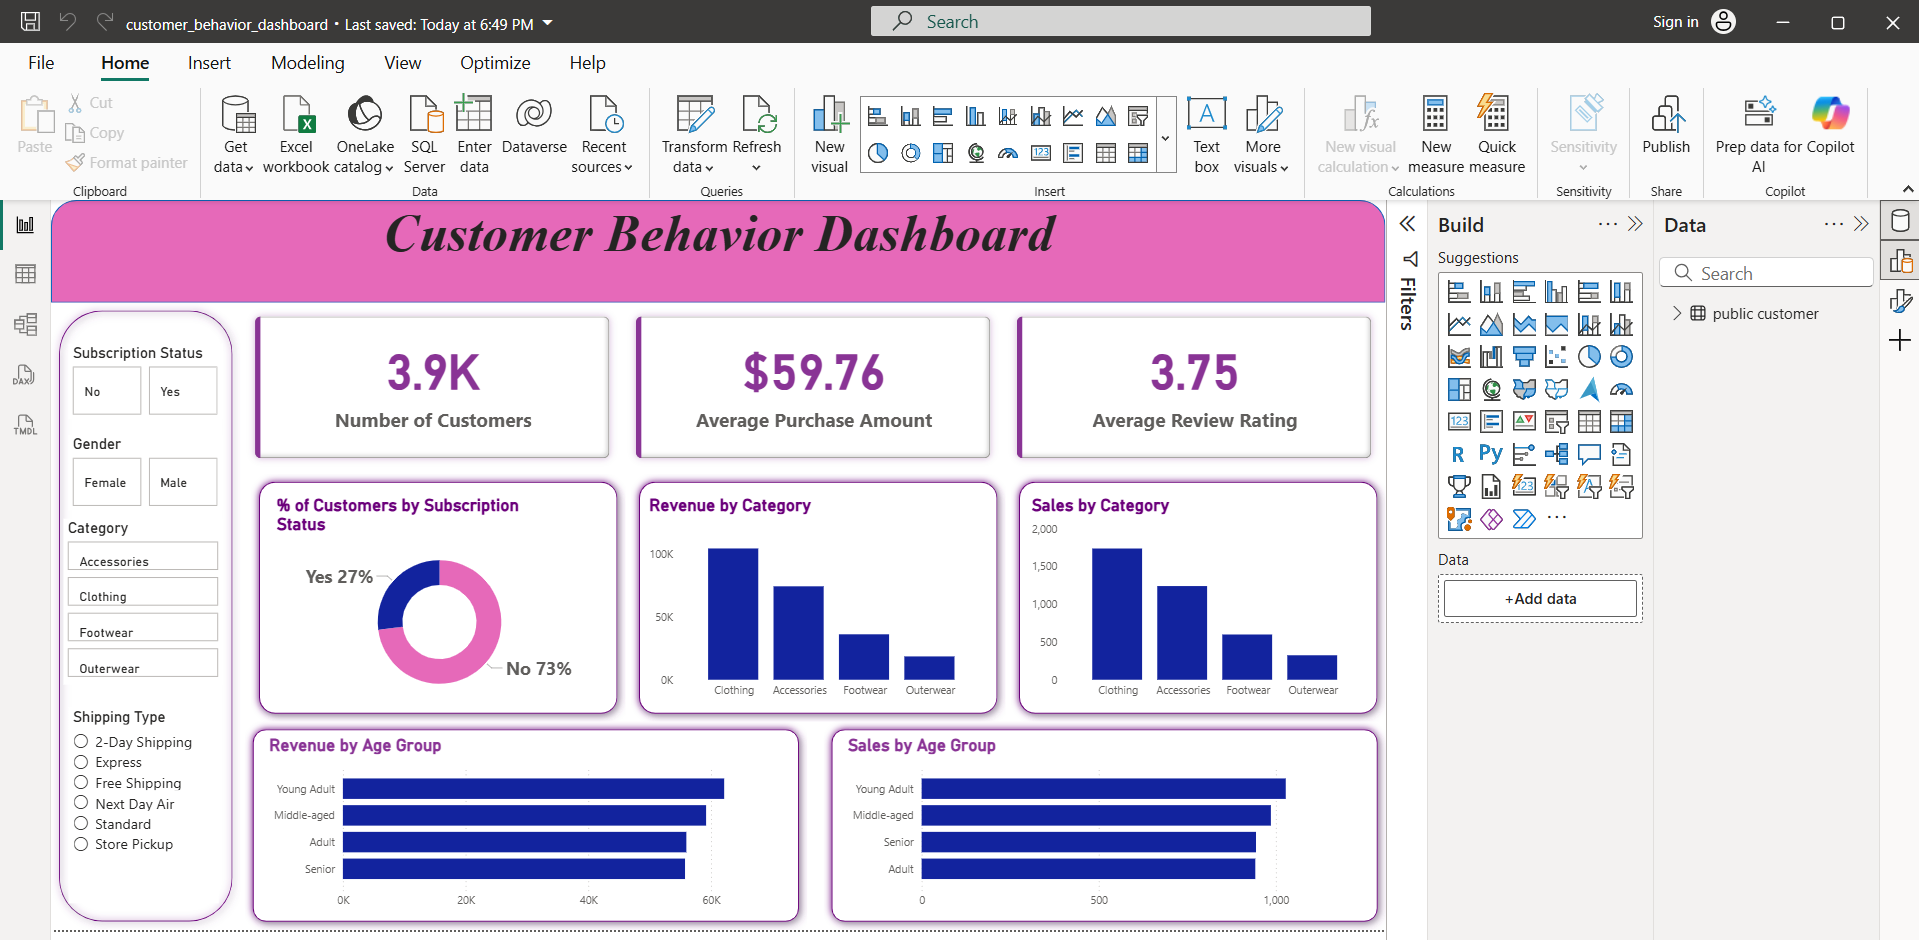

The dashboard page shown, as its layout file describes it:
{"tool":"powerbi","page":{"name":"Page 1","canvas":[1500,820],"ordinal":0},"visuals":[{"type":"cardVisual","fields":{"Data":["public customer.Number of Customers","public customer.Average Purchase Amount","public customer.Average Review Rating"]},"box":[212.9,115.3,1286.5,191.6],"z":2000},{"type":"shape","box":[218.3,585.6,631.7,234.2],"z":2500,"group":"g1"},{"type":"shape","box":[0,0,1499.4,115.3],"z":3000},{"type":"textbox","box":[0,0,1499.9,115.6],"z":4000},{"type":"shape","box":[225.4,307,420.5,278.6],"z":5000},{"type":"donutChart","title":"% of Customers by Subscription Status","fields":{"Category":["public customer.subscription_status"],"Y":["CountNonNull(public customer.customer_id)"]},"box":[248.4,331.8,376.2,237.8],"z":6000},{"type":"shape","box":[1078.9,307,420.5,278.6],"z":7000},{"type":"shape","box":[652.1,307,420.5,278.6],"z":8000},{"type":"clusteredColumnChart","title":"Revenue by Category","fields":{"Y":["Sum(public customer.purchase_amount)"],"Category":["public customer.category"]},"box":[667.2,331.8,385.1,237.8],"z":9000},{"type":"clusteredColumnChart","title":"Sales by Category","fields":{"Y":["CountNonNull(public customer.customer_id)"],"Category":["public customer.category"]},"box":[1096.6,331.8,385.1,237.8],"z":10000},{"type":"shape","box":[0,115.3,212.9,704.5],"z":11000},{"type":"advancedSlicerVisual","fields":{"Values":["public customer.subscription_status"]},"box":[19.5,161.5,173.9,85.2],"z":12000},{"type":"advancedSlicerVisual","fields":{"Values":["public customer.gender"]},"box":[19.5,264.4,173.9,85.2],"z":13000},{"type":"advancedSlicerVisual","fields":{"Values":["public customer.category"]},"box":[14.2,358.4,179.2,186.3],"z":14000},{"type":"listSlicer","fields":{"Values":["public customer.shipping_type"]},"box":[19.5,569.6,168.6,220],"z":15000},{"type":"shape","box":[867.7,585.6,631.7,234.2],"z":16000},{"type":"clusteredBarChart","title":"Sales by Age Group","fields":{"Y":["CountNonNull(public customer.customer_id)"],"Category":["public customer.age_group"]},"box":[890.8,601.5,585.6,204.1],"z":17000},{"type":"clusteredBarChart","title":"Revenue by Age Group","fields":{"Y":["Sum(public customer.purchase_amount)"],"Category":["public customer.age_group"]},"box":[241.4,601.6,585.6,204.1],"z":17500,"group":"g1"},{"type":"group","id":"g1","title":"Group 1","box":[218.3,585.6,631.7,234.2],"z":17501}]}

Visuals, with their boxes on the page's 1500x820 design canvas (x1, y1, x2, y2). These are canvas units, not pixel positions in the 1919x940 screenshot, which may show the page scaled, cropped or inside an application window:
cardVisual - public customer.Number of Customers x public customer.Average Purchase Amount: (x1=213, y1=115, x2=1499, y2=307)
shape: (x1=218, y1=586, x2=850, y2=820)
shape: (x1=0, y1=0, x2=1499, y2=115)
textbox: (x1=0, y1=0, x2=1500, y2=116)
shape: (x1=225, y1=307, x2=646, y2=586)
"% of Customers by Subscription Status" donutChart: (x1=248, y1=332, x2=625, y2=570)
shape: (x1=1079, y1=307, x2=1499, y2=586)
shape: (x1=652, y1=307, x2=1073, y2=586)
"Revenue by Category" clusteredColumnChart: (x1=667, y1=332, x2=1052, y2=570)
"Sales by Category" clusteredColumnChart: (x1=1097, y1=332, x2=1482, y2=570)
shape: (x1=0, y1=115, x2=213, y2=820)
advancedSlicerVisual - public customer.subscription_status: (x1=20, y1=162, x2=193, y2=247)
advancedSlicerVisual - public customer.gender: (x1=20, y1=264, x2=193, y2=350)
advancedSlicerVisual - public customer.category: (x1=14, y1=358, x2=193, y2=545)
listSlicer - public customer.shipping_type: (x1=20, y1=570, x2=188, y2=790)
shape: (x1=868, y1=586, x2=1499, y2=820)
"Sales by Age Group" clusteredBarChart: (x1=891, y1=602, x2=1476, y2=806)
"Revenue by Age Group" clusteredBarChart: (x1=241, y1=602, x2=827, y2=806)
"Group 1" group: (x1=218, y1=586, x2=850, y2=820)
